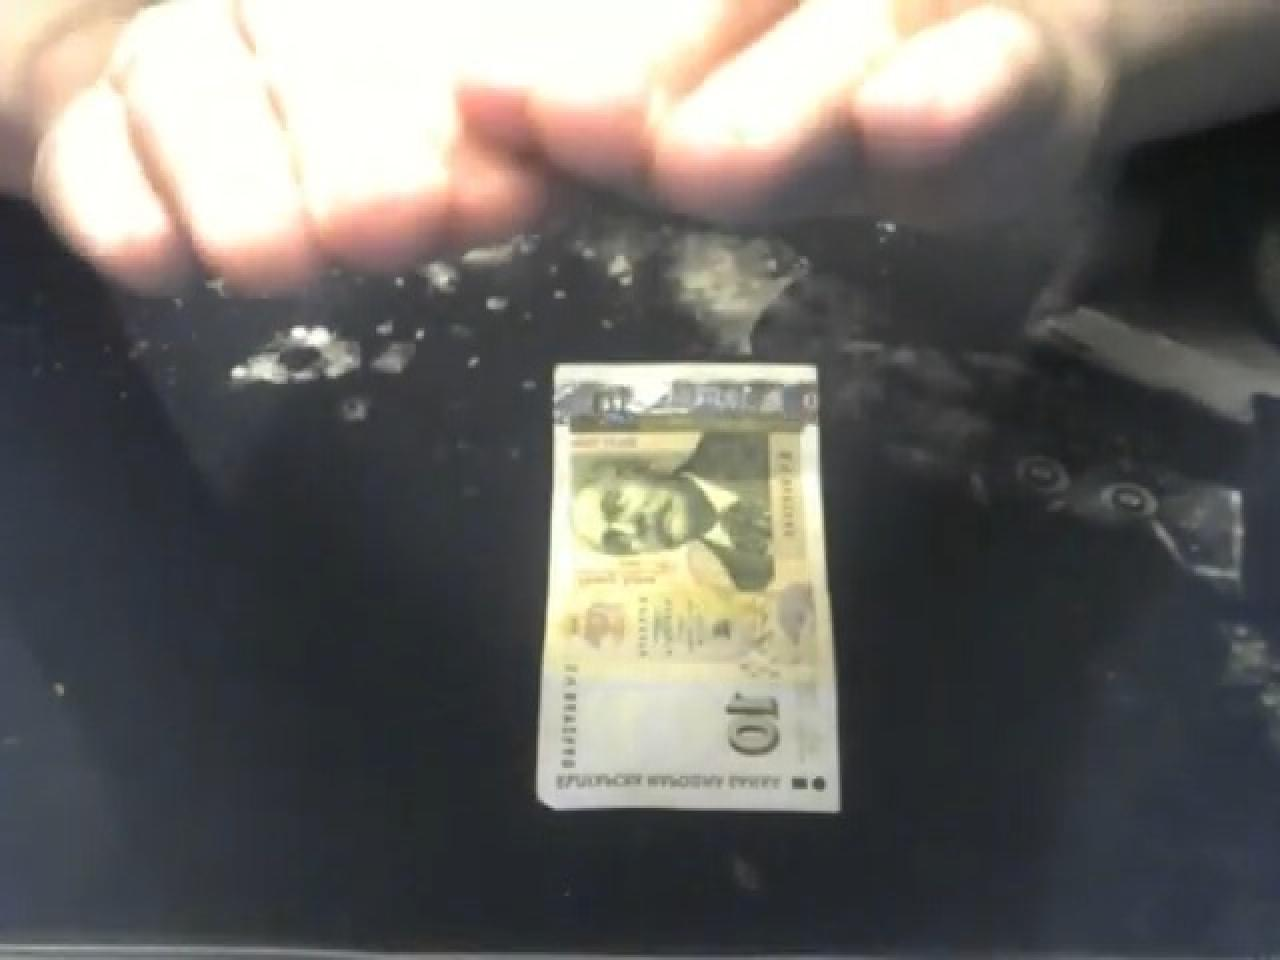10leva: (571, 418, 787, 596), (689, 667, 794, 778)
